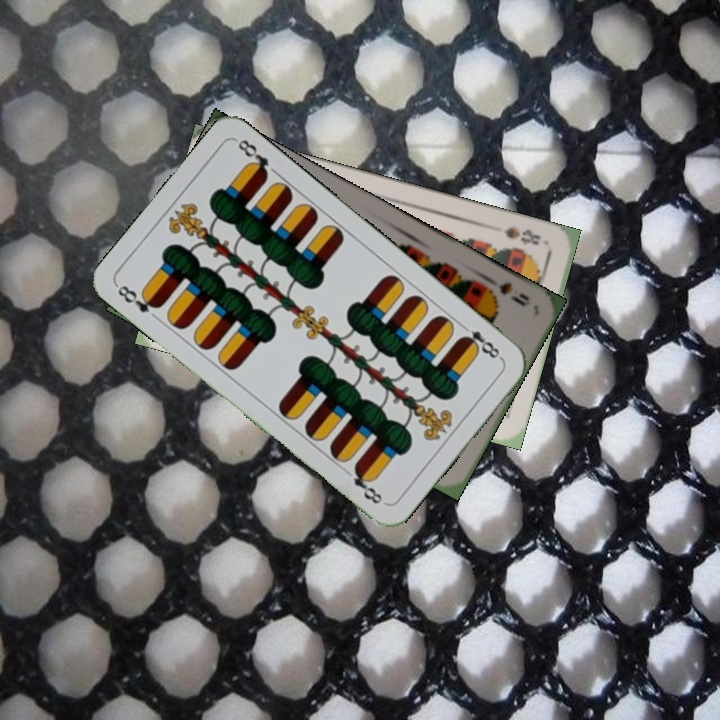E8: (456, 319, 505, 363), (113, 281, 164, 316)
S8: (500, 221, 544, 248)
S9: (481, 272, 533, 309)
